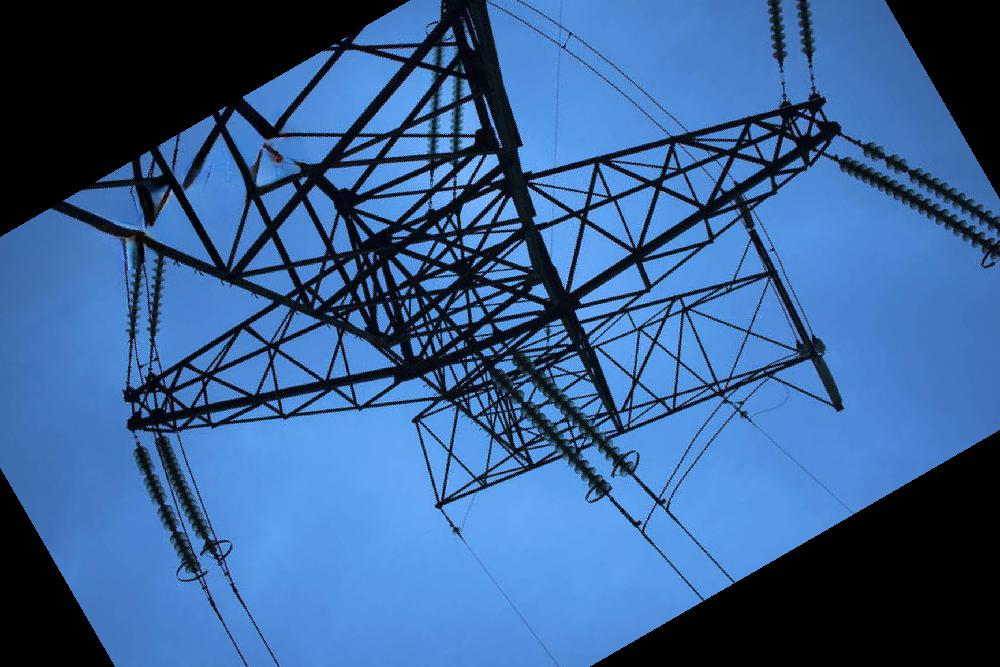insulator: (835, 154, 1000, 262), (508, 349, 637, 480), (488, 367, 612, 498), (859, 137, 1000, 238), (131, 445, 203, 575), (153, 433, 221, 557), (424, 43, 448, 168), (144, 257, 169, 337), (445, 73, 468, 156), (123, 269, 148, 337), (793, 1, 820, 58), (766, 1, 789, 64)
insulator_stringdrop: (507, 389, 536, 418), (895, 157, 925, 185), (870, 144, 899, 172), (194, 525, 218, 552), (162, 518, 186, 544), (137, 462, 161, 485), (150, 492, 173, 516)
